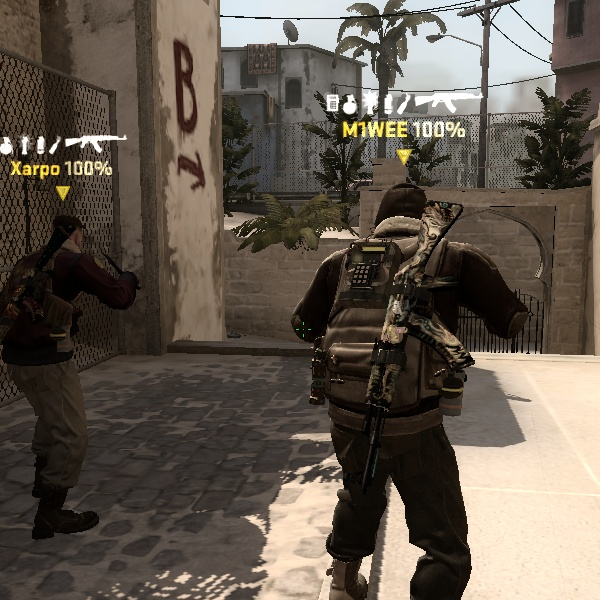t_body: (268, 177, 499, 590), (2, 208, 147, 535)
t_head: (362, 182, 451, 270), (40, 208, 101, 265)
